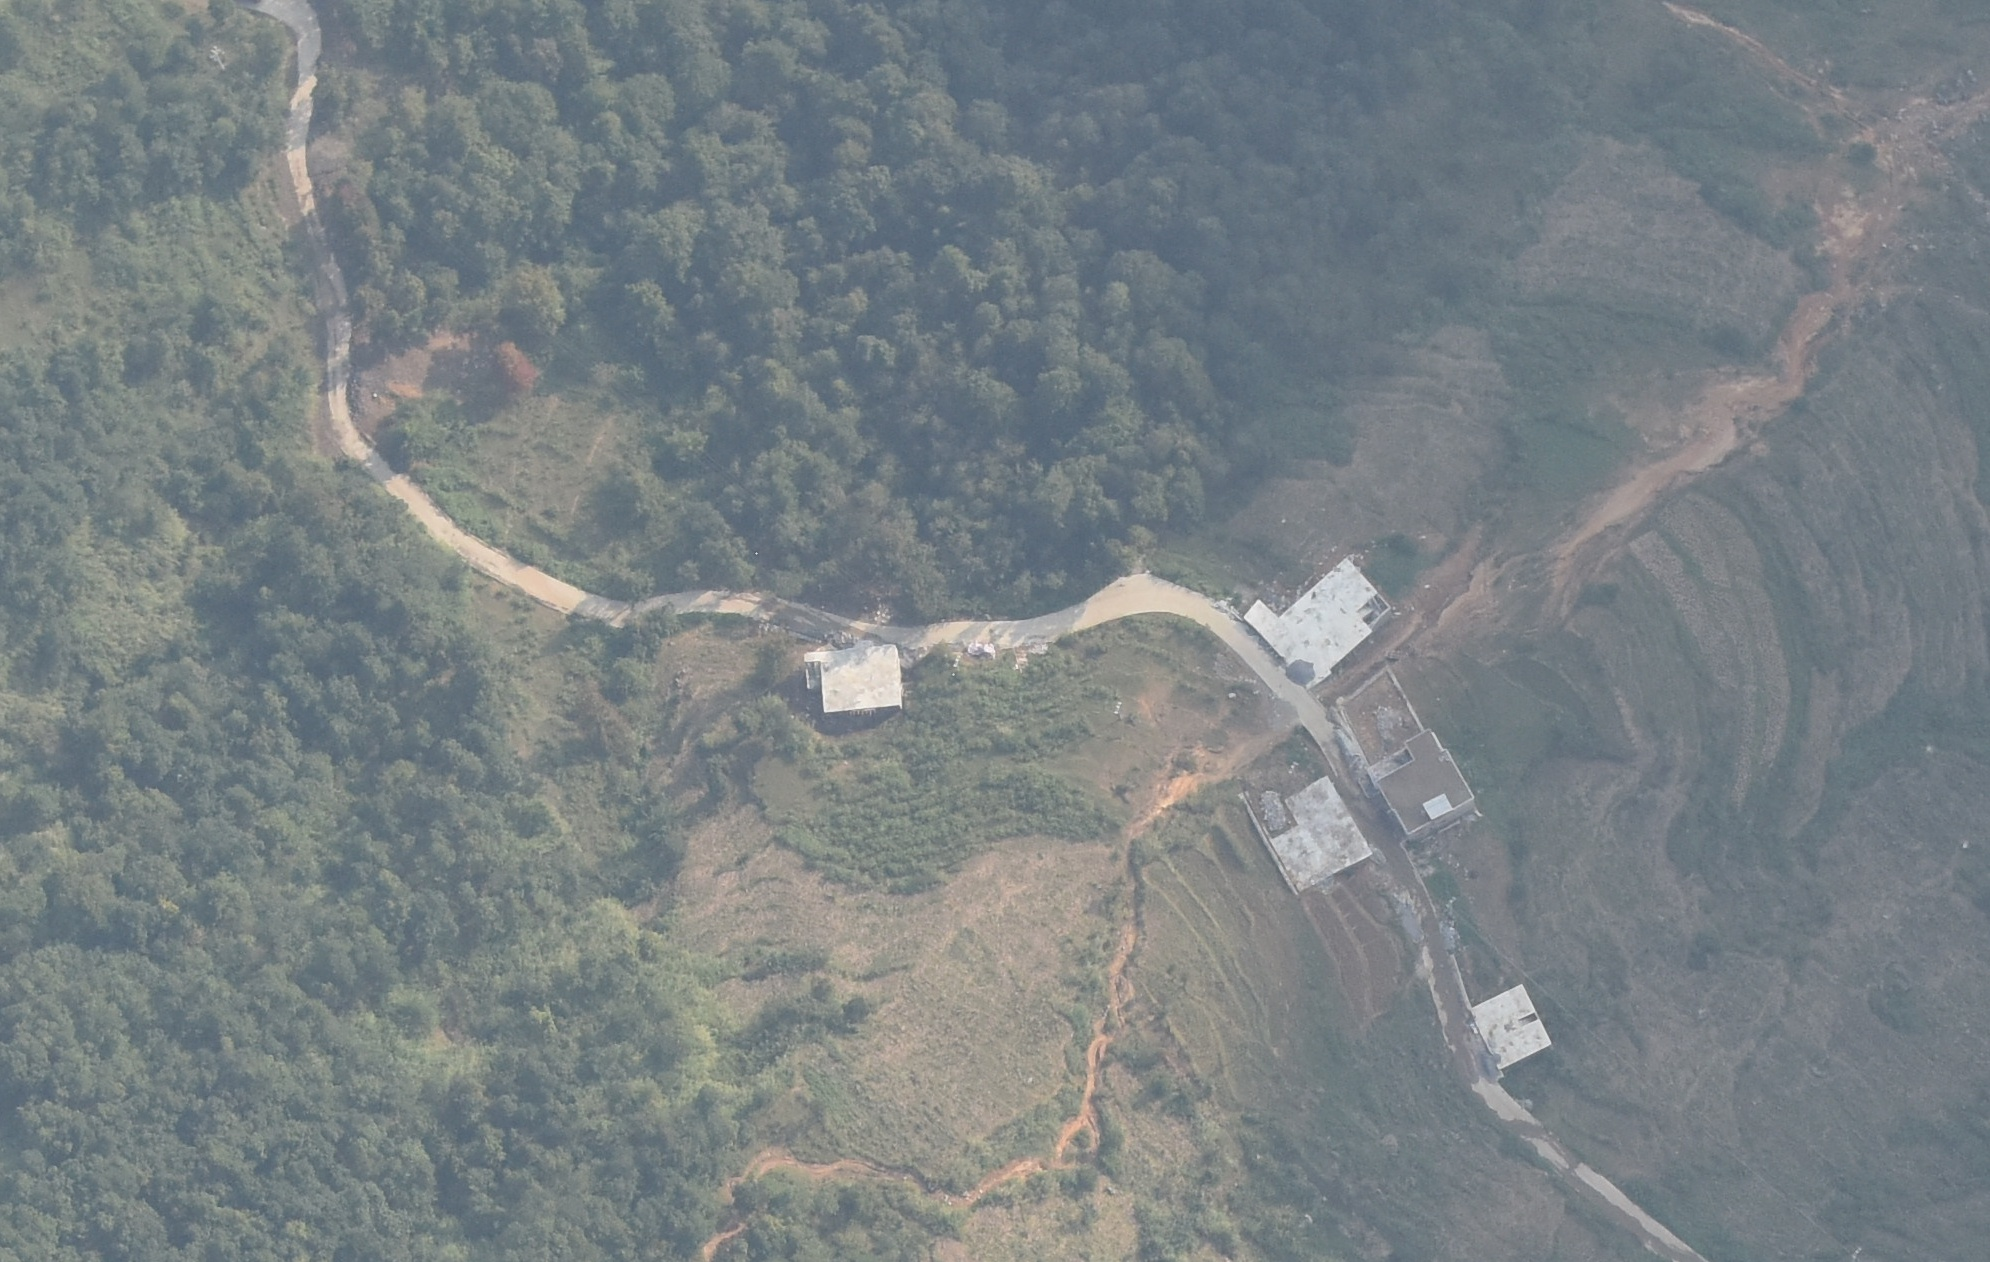building: (1236, 547, 1386, 688), (1361, 725, 1482, 843), (1253, 777, 1375, 894), (797, 634, 922, 729), (1469, 973, 1555, 1067)
